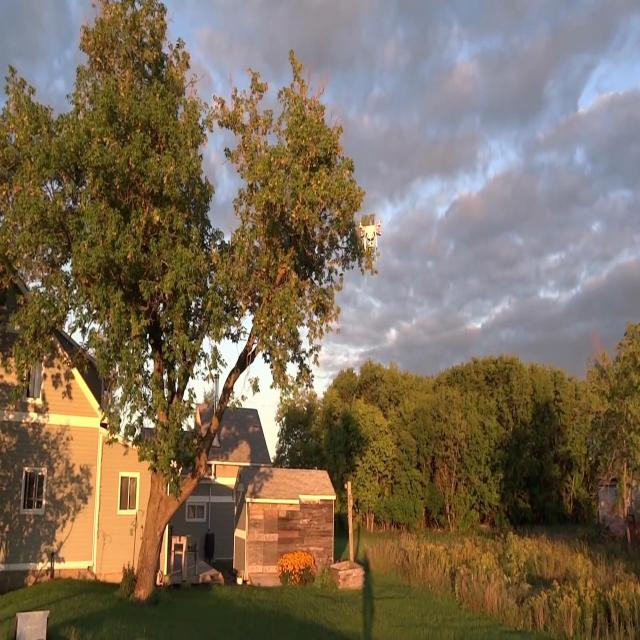drone: (357, 217, 383, 249)
